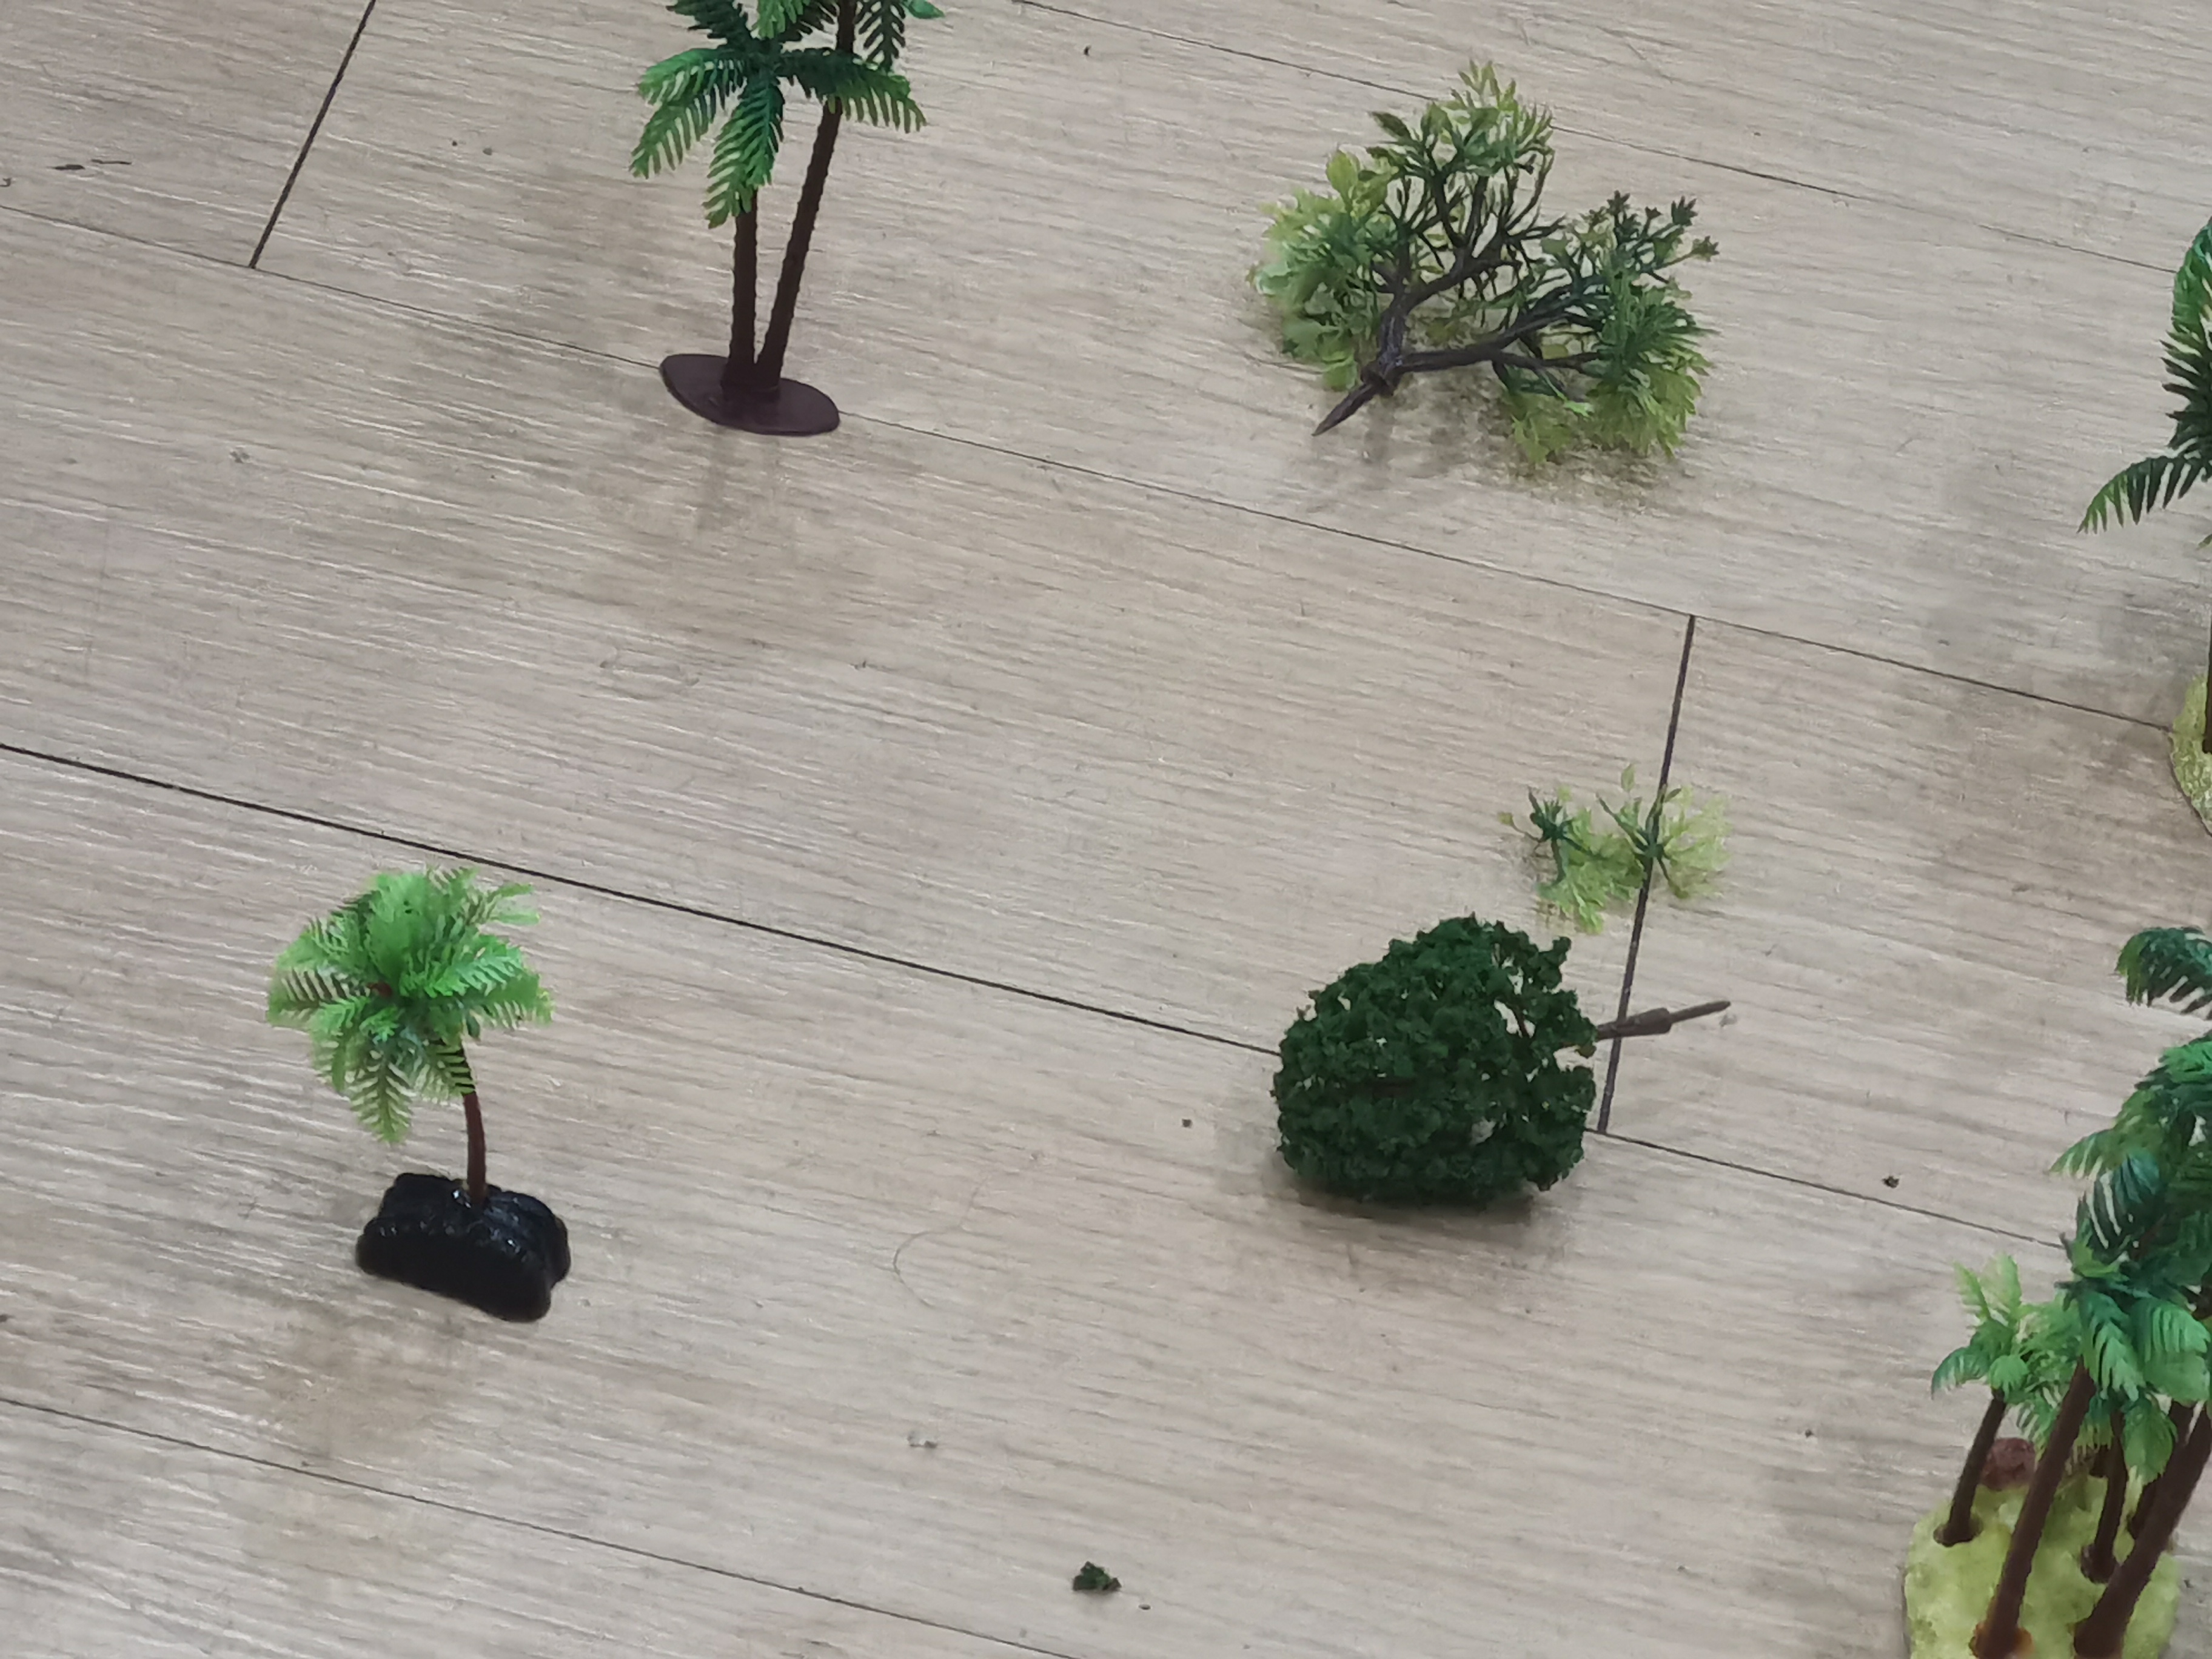corn: (1881, 918, 2212, 1659), (249, 843, 577, 1323), (624, 9, 937, 439)
